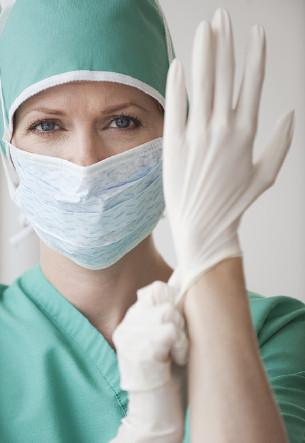WRONG: (5, 95, 175, 272)
